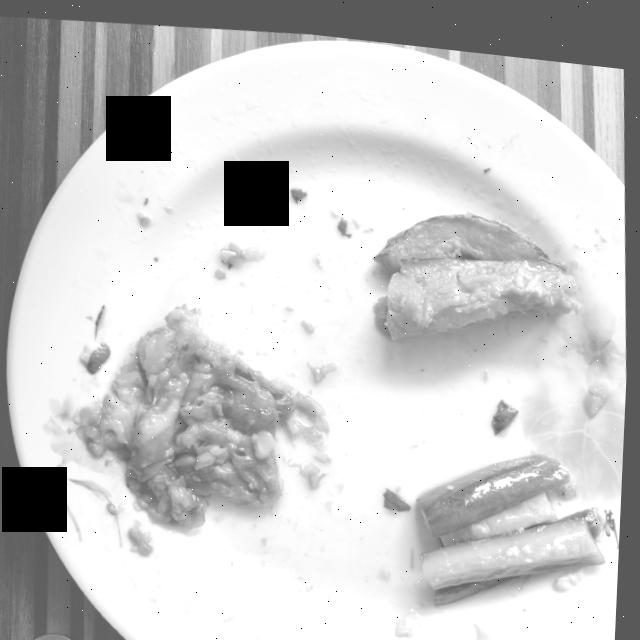Kabayaki sea bream fillet: (80, 301, 300, 523)
coin: (39, 632, 80, 640)
cucumber: (422, 441, 610, 594)
pumpkin: (376, 203, 585, 329)
